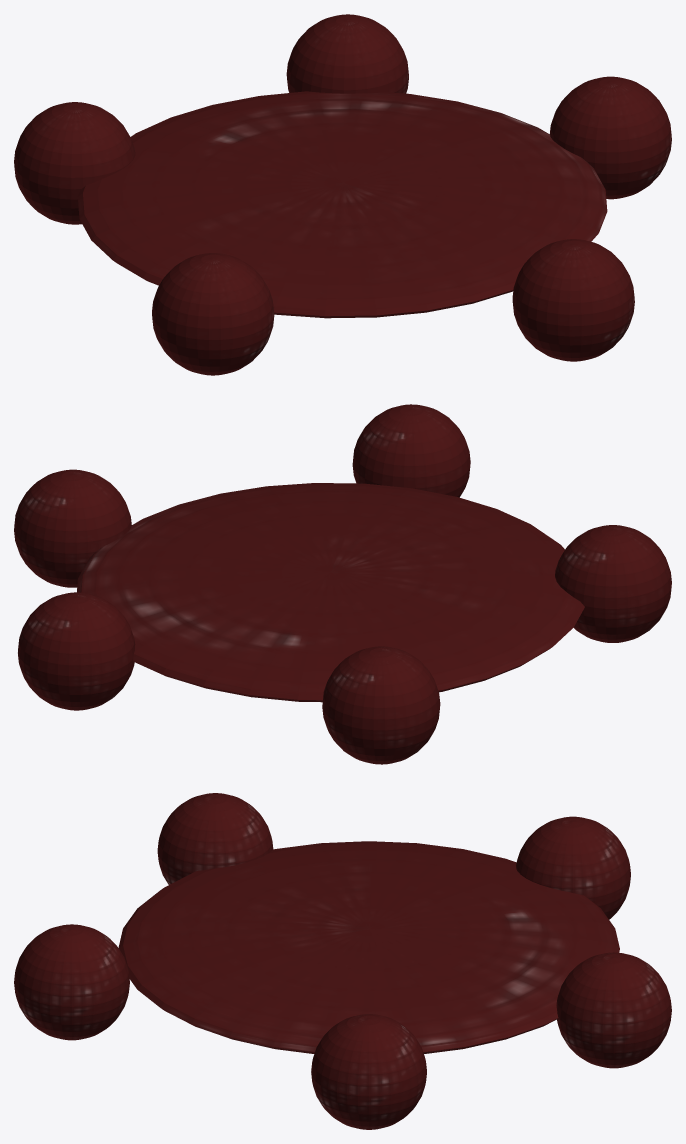
The model's file is enemyBullet.obj.
3 views of the same model, one above another, from view 1: azimuth 30°, elevation 25°; view 2: azimuth 150°, elevation 25°; view 3: azimuth 270°, elevation 25° (orthographic). The views are drawn at different scales.
Visible parts, largest first — view 1: 球.005; view 2: 球.005; view 3: 球.005.
Part boxes in pixels (box(x1,y1,x2,y2)): 球.005: box(14, 14, 671, 375); 球.005: box(14, 404, 671, 764); 球.005: box(14, 793, 671, 1129).
Size of the model in its own units: 0.5823 by 0.1058 by 0.5997.
1 material, 1 textured.
